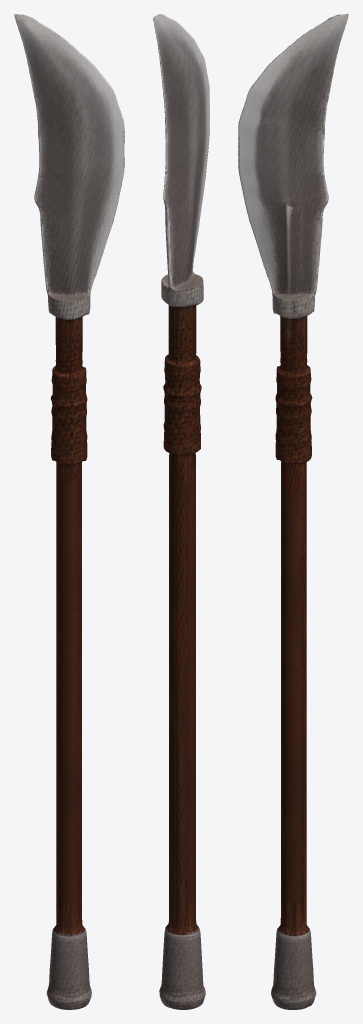
File: look-weapon-t0-rodin.glb
3 views of the same model, side by side, from view 1: azimuth 90°, elevation 25°; view 2: azimuth 150°, elevation 25°; view 3: azimuth 270°, elevation 25° (orthographic).
Visible parts, largest first — view 1: model; view 2: model; view 3: model.
Boxes of the visible parts, x1,y1,x2,y2 form: model: (14,14,124,1009); model: (153,14,209,1009); model: (238,14,348,1009).
Bounding box in the file's own units: 0.0798 × 1.9 × 0.1925.
Materials: 1 (1 with a texture image).
